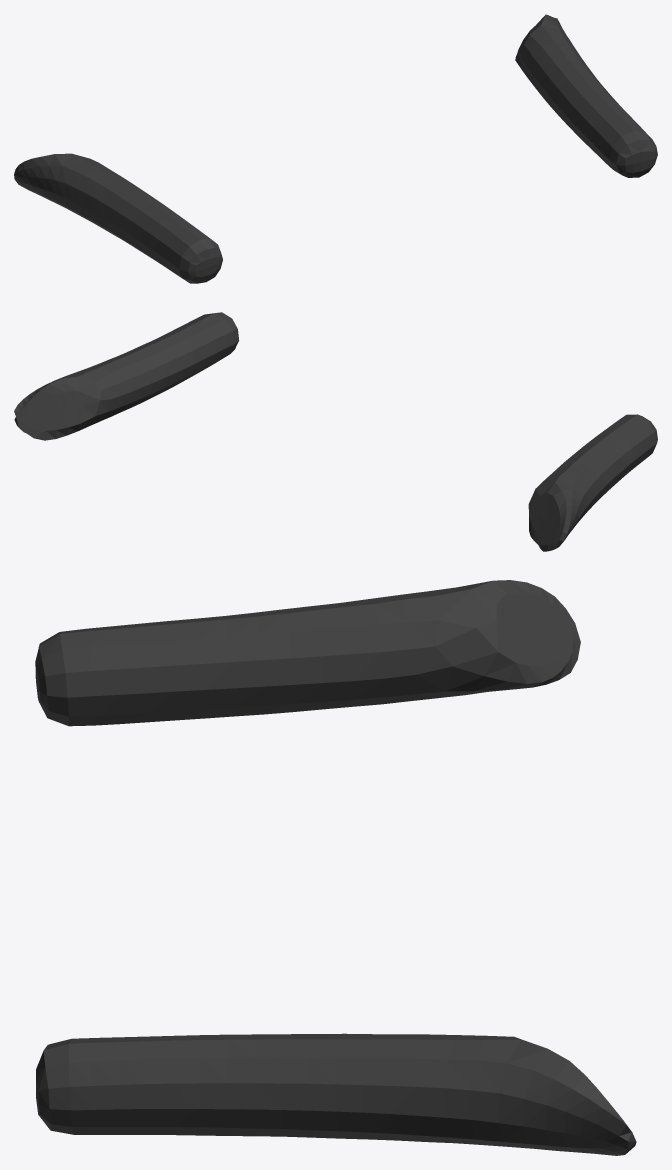
3 renders of one model, top to bottom at view 1: azimuth 30°, elevation 25°; view 2: azimuth 150°, elevation 25°; view 3: azimuth 270°, elevation 25°, orthographic. The views are drawn at different scales.
Parts seen in each view (by area): view 1: CN1_low_CN1_low; view 2: CN1_low_CN1_low; view 3: CN1_low_CN1_low.
Part boxes in pixels (x1=…): CN1_low_CN1_low: x1=14, y1=14, x2=657, y2=283; CN1_low_CN1_low: x1=14, y1=312, x2=657, y2=551; CN1_low_CN1_low: x1=35, y1=580, x2=636, y2=1155.
Bounding box in the file's own units: 8.16 × 0.8435 × 3.96.
Materials: 1 (1 with a texture image).
